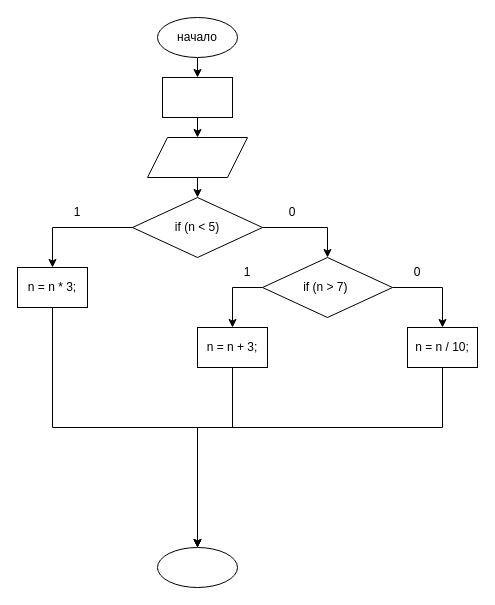
Image size: 495x605. Some labels were removed from this diagram. Each missing label, with the centre of its shape:
cin >> n;: (197,157)
float n;: (197,97)
конец: (197,567)
